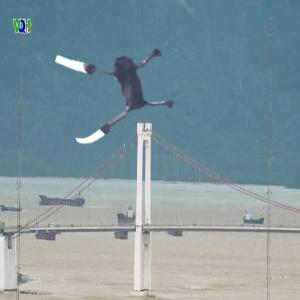drone: (45, 13, 189, 157)
